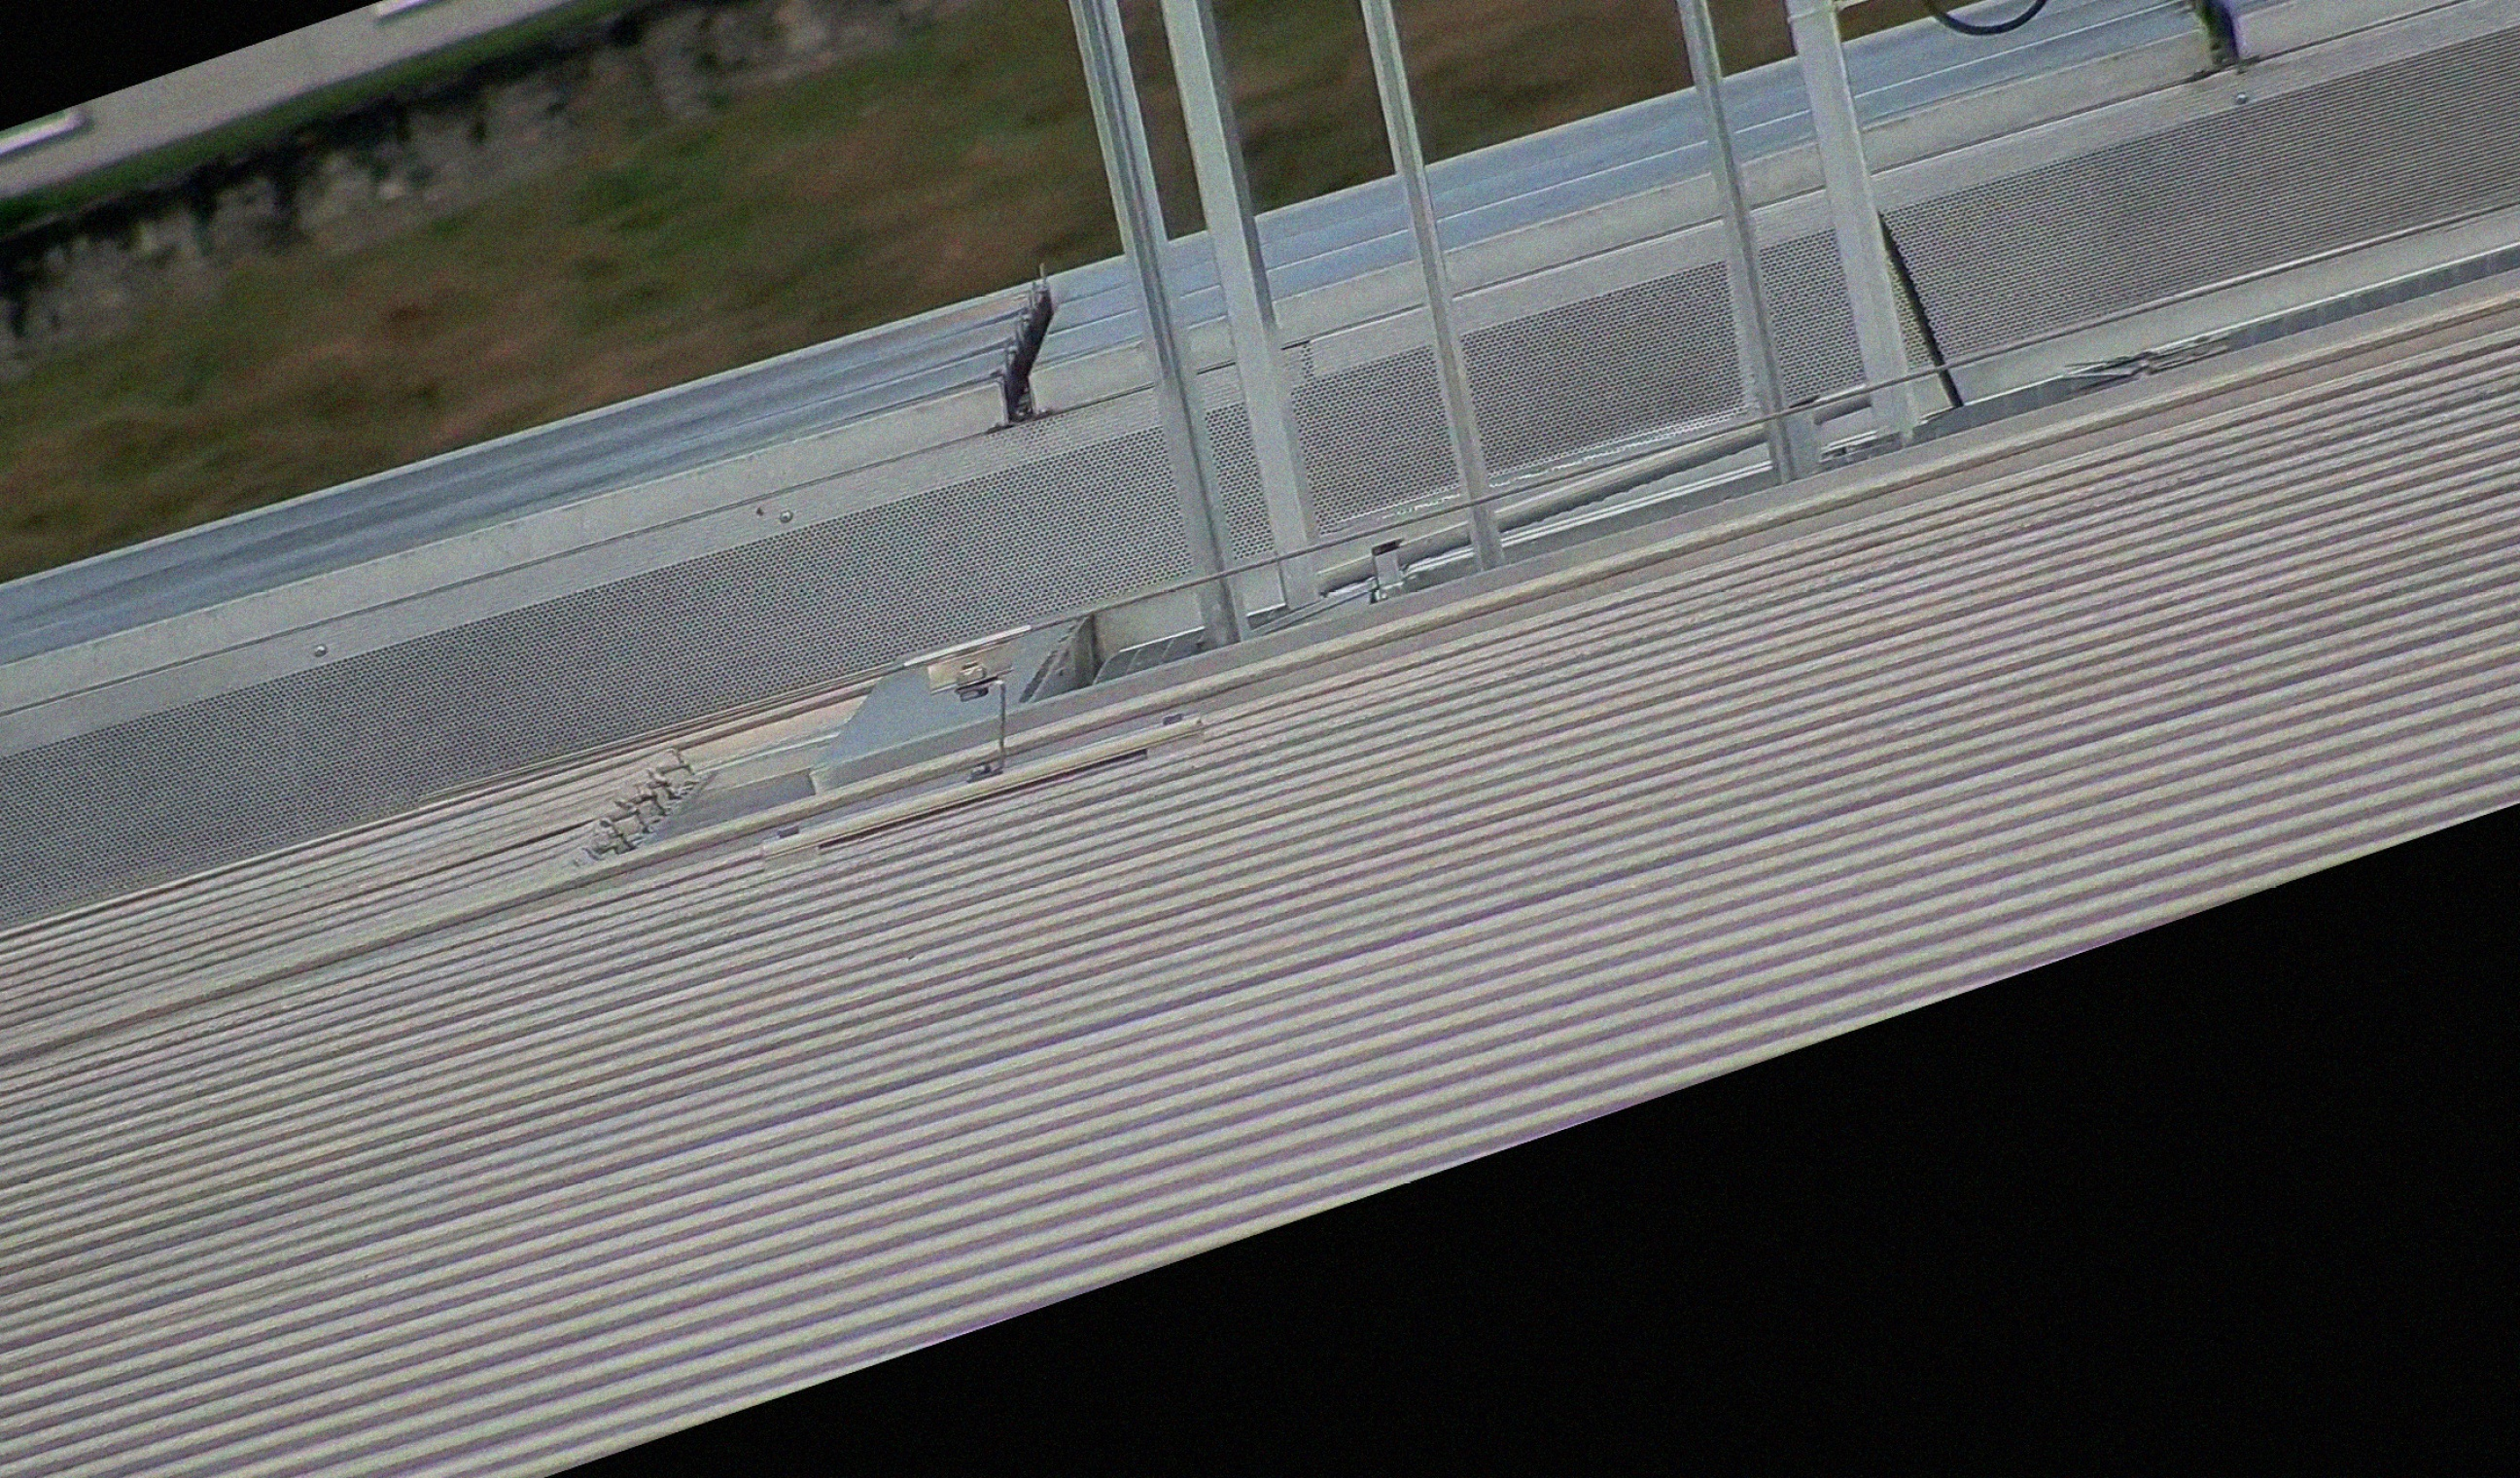Other: (946, 257, 1101, 445)
